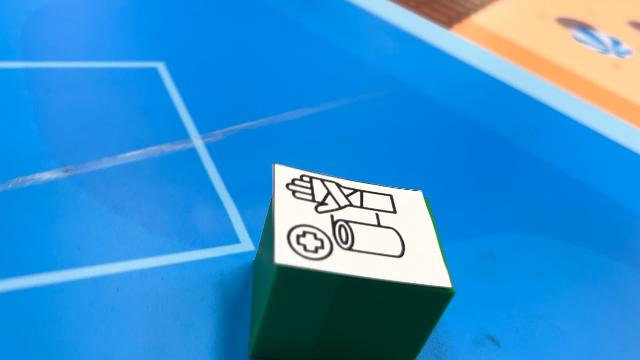bandage: (248, 163, 456, 359)
